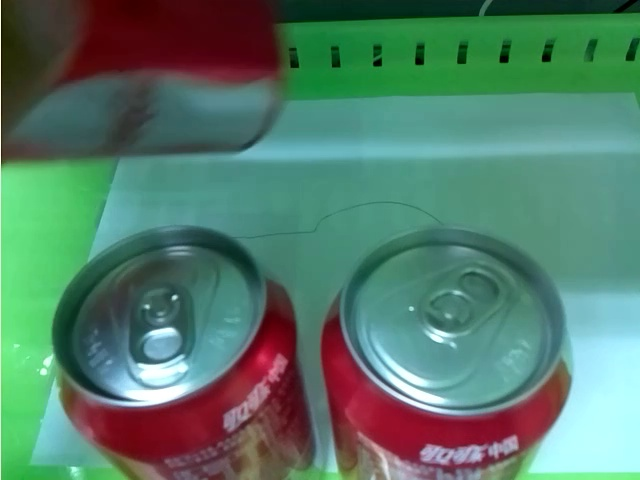cocacola: (54, 226, 317, 480), (326, 228, 574, 480)
